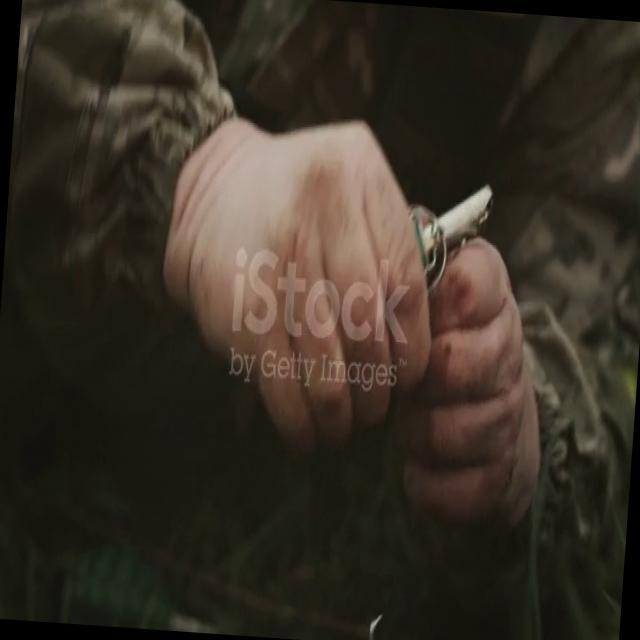grenade: (404, 176, 506, 294)
